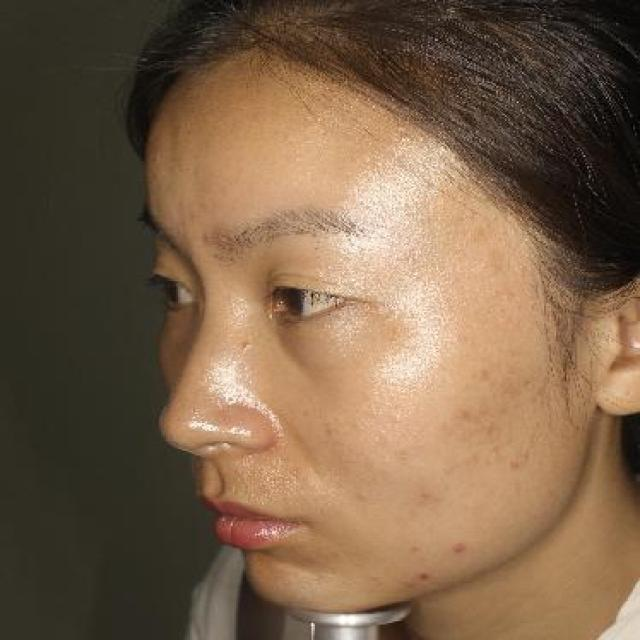blackheads: (398, 129, 418, 145)
papules: (414, 569, 436, 586), (450, 540, 472, 555)
pustules: (303, 552, 320, 563)
whiteheads: (236, 340, 258, 354)
